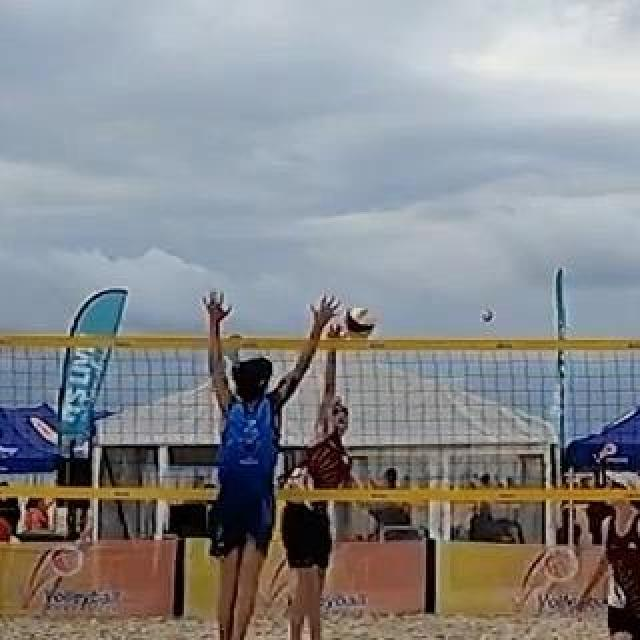volleyball: (344, 308, 374, 340), (478, 308, 494, 324)
